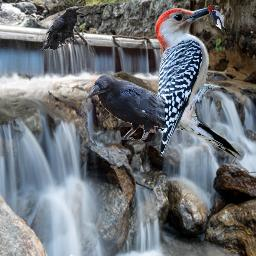Crow: (85, 73, 165, 140), (40, 7, 84, 52)
Woodpecker: (147, 0, 249, 170), (207, 4, 230, 34)
